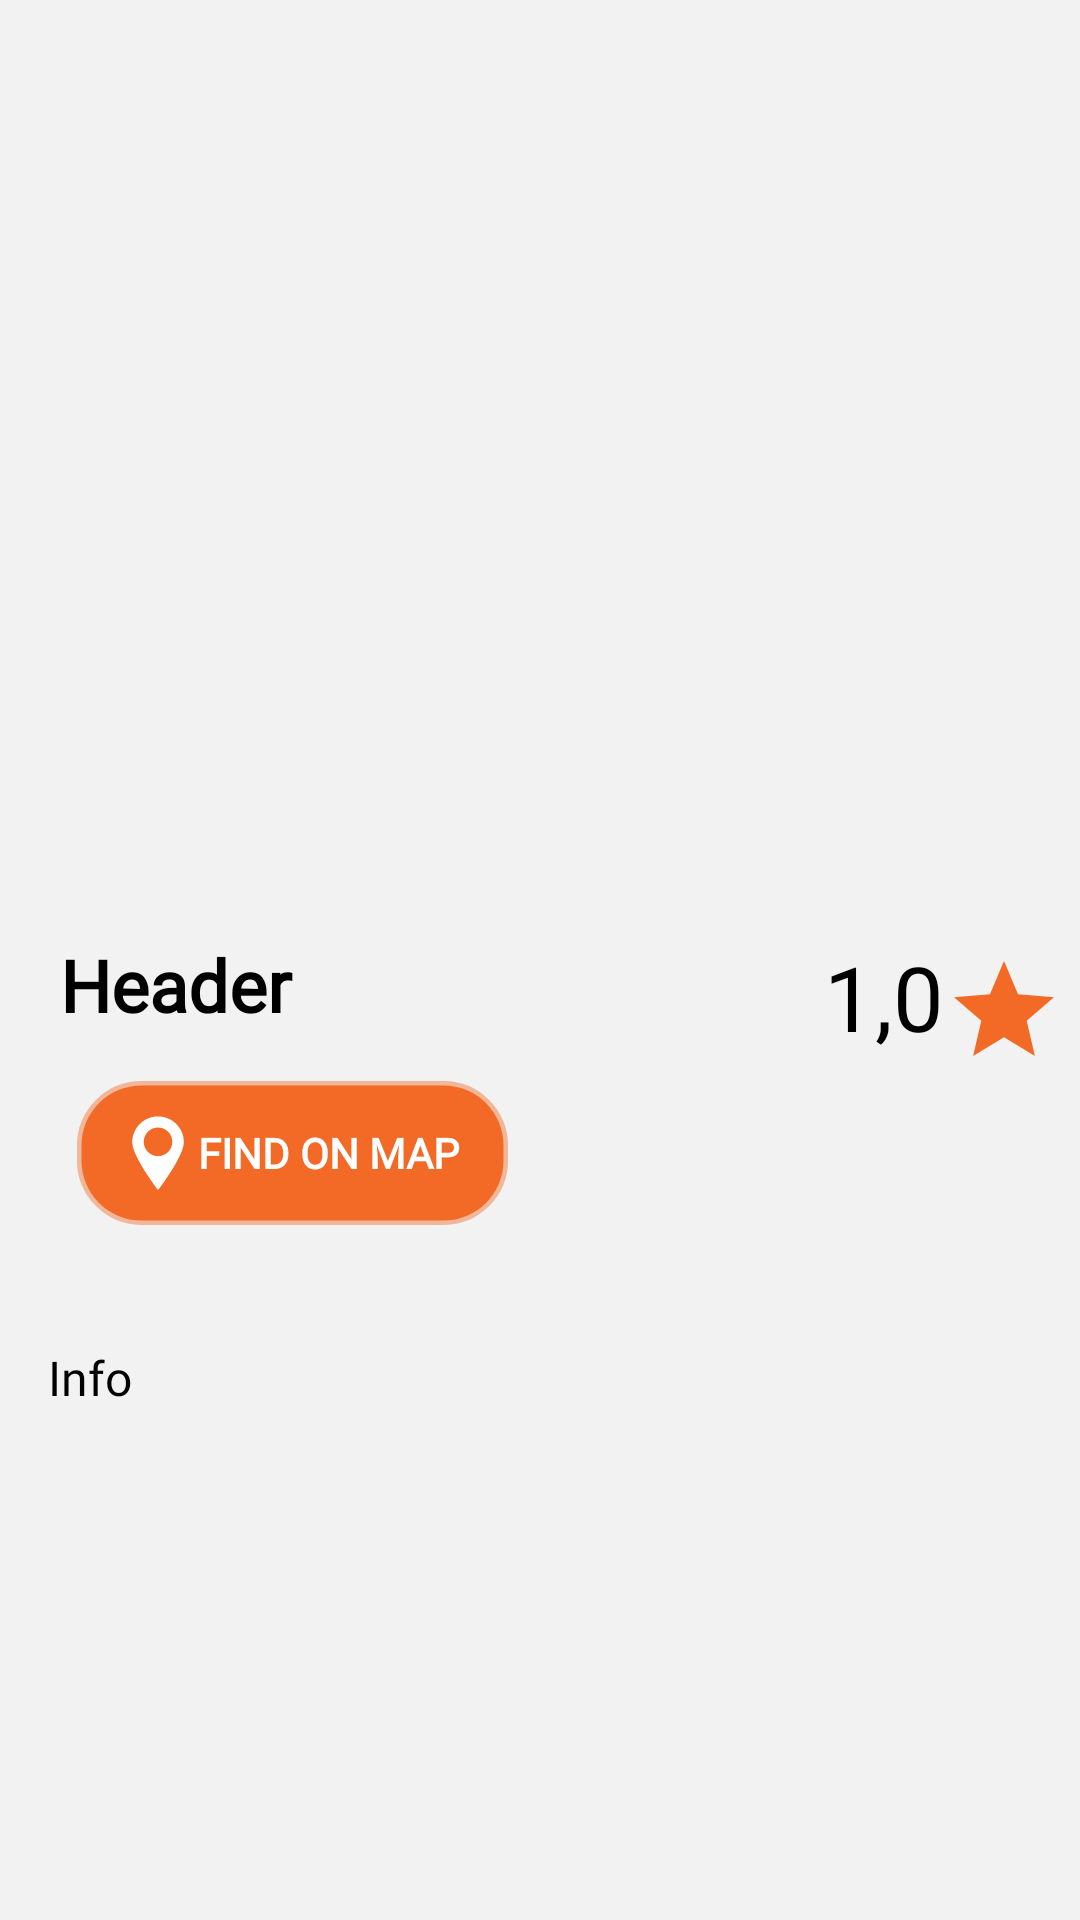

Icon click points for this 1080 × 1920 phone screenshot, format point (x, y):
point: point (158, 1153)
star: point (1004, 1008)
